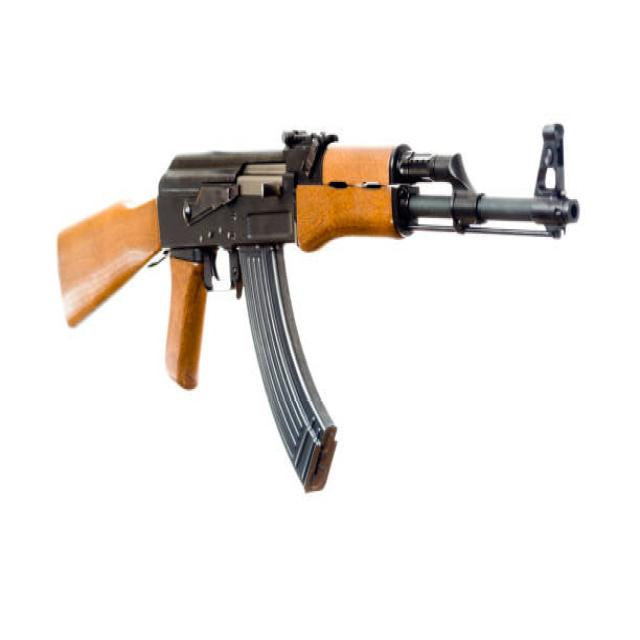rifle: (58, 104, 586, 513)
